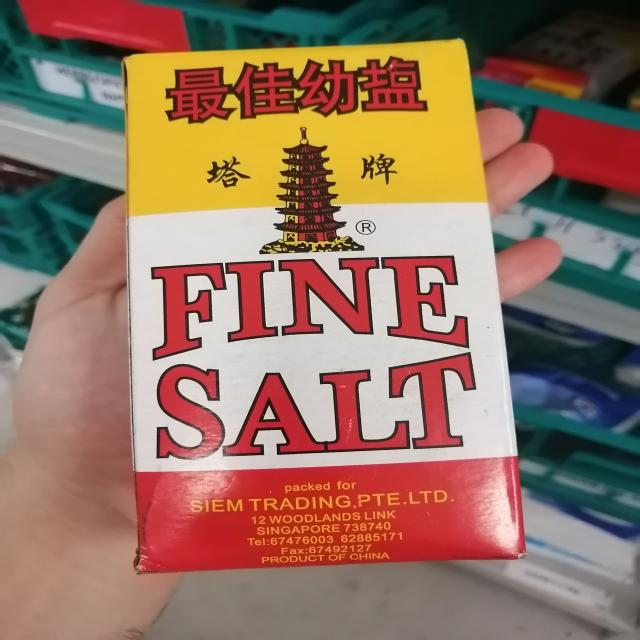object_name: (135, 56, 512, 554)
